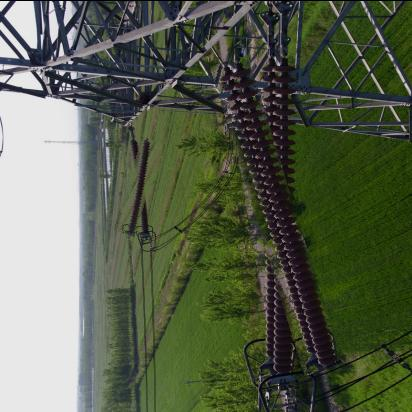insulator: (234, 54, 320, 376), (122, 138, 158, 237)
